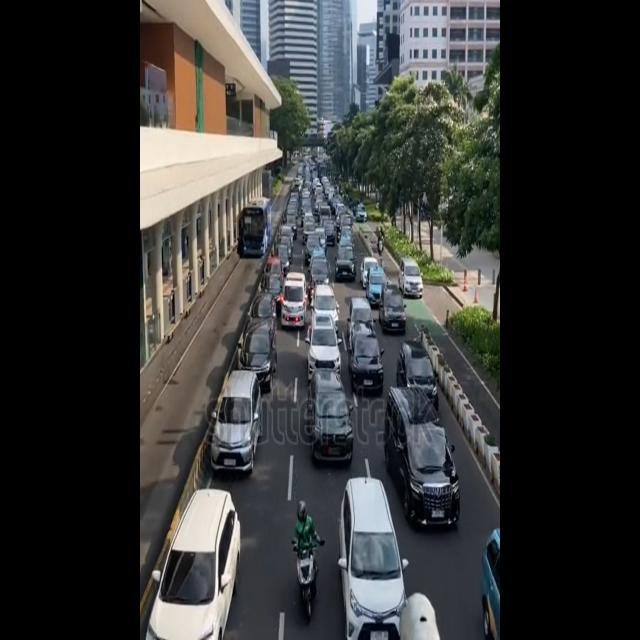Ambulance: (278, 264, 310, 332)
